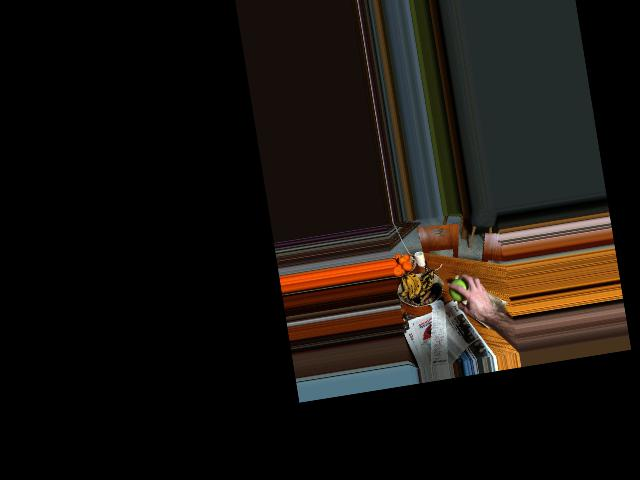apple: (447, 277, 475, 305)
